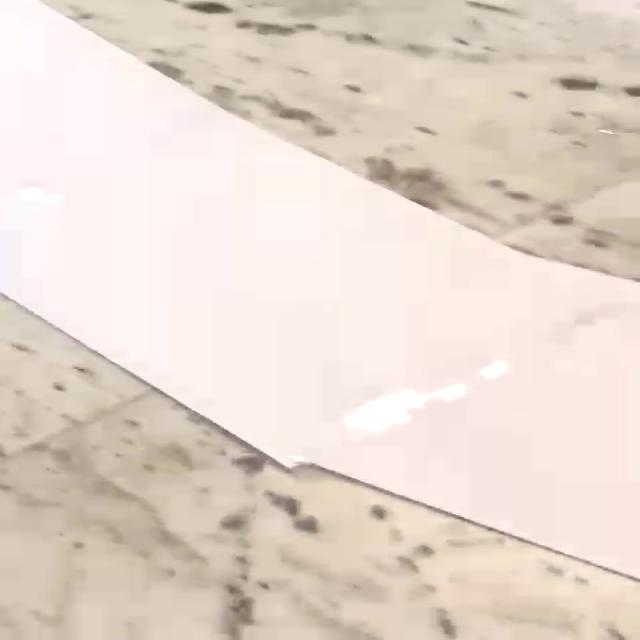road: (1, 0, 637, 577)
